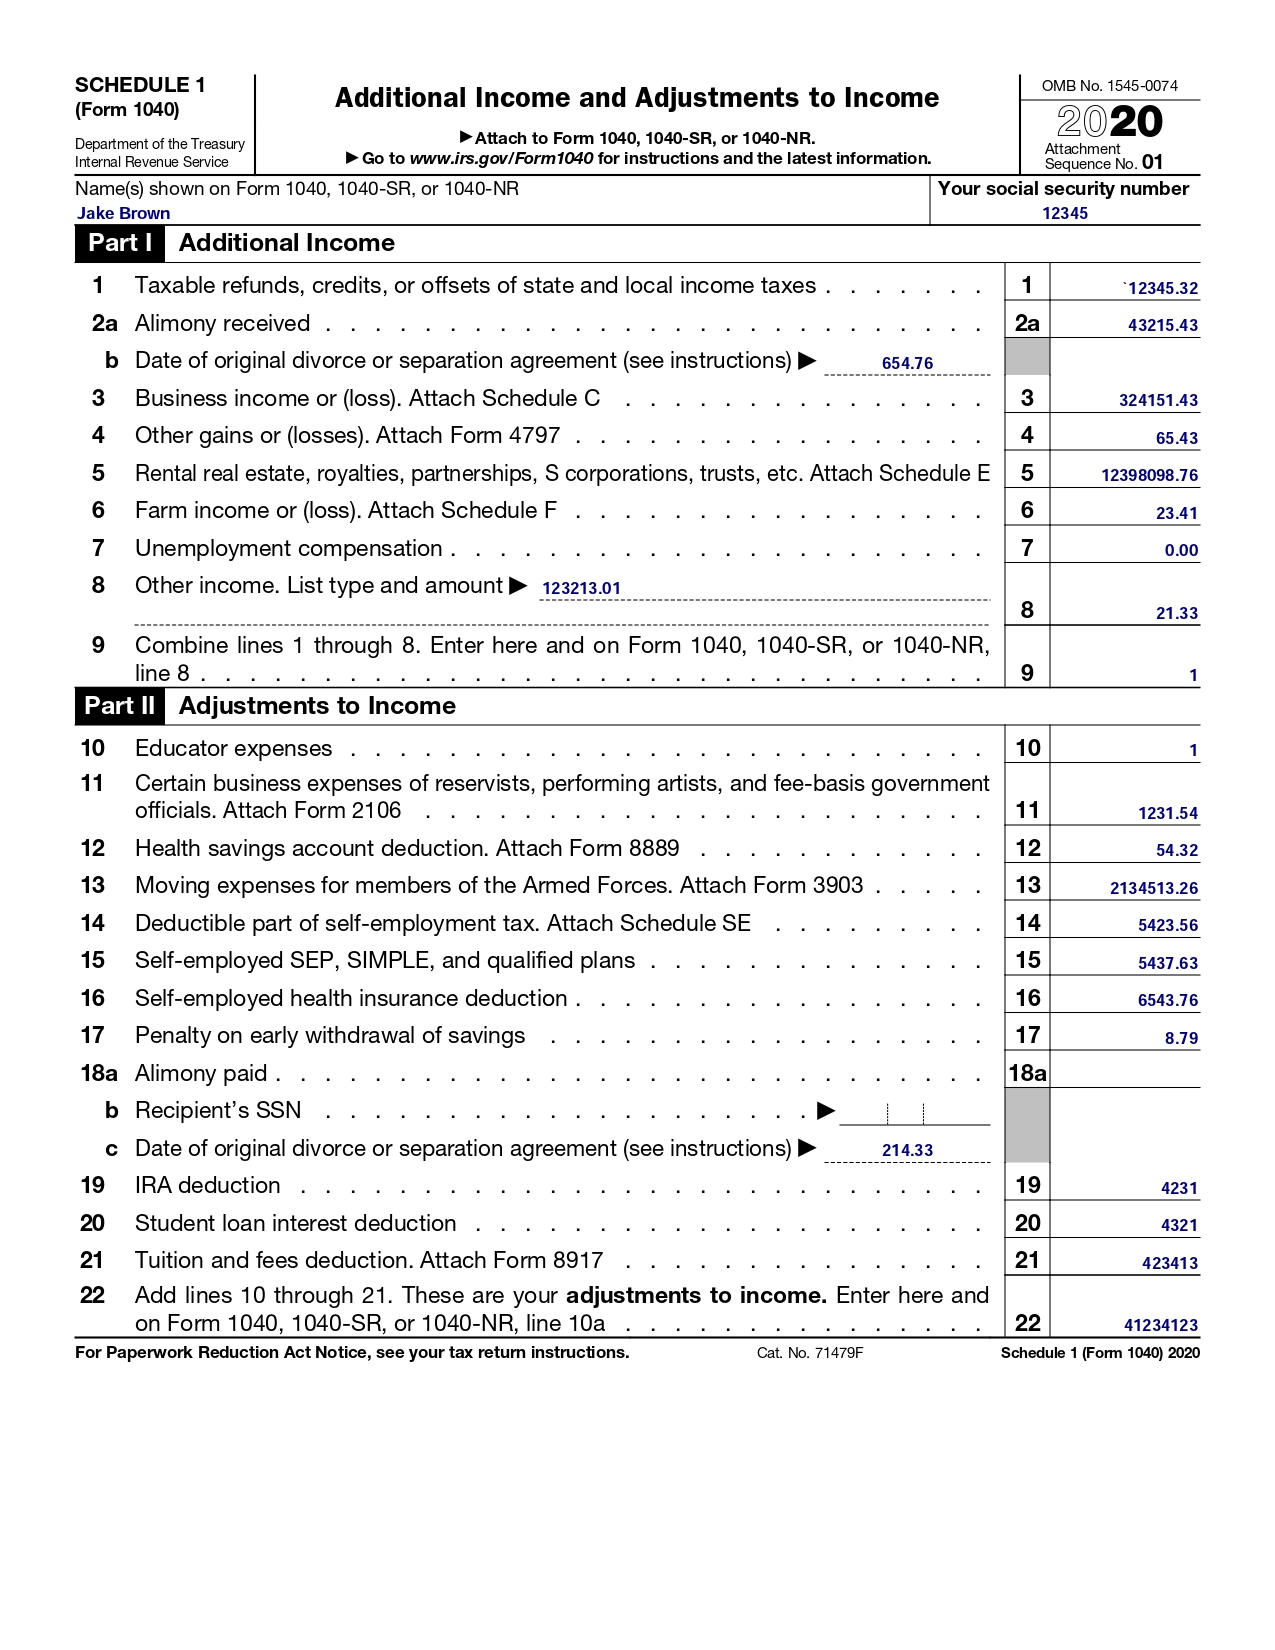table: (60, 175, 1217, 1341)
